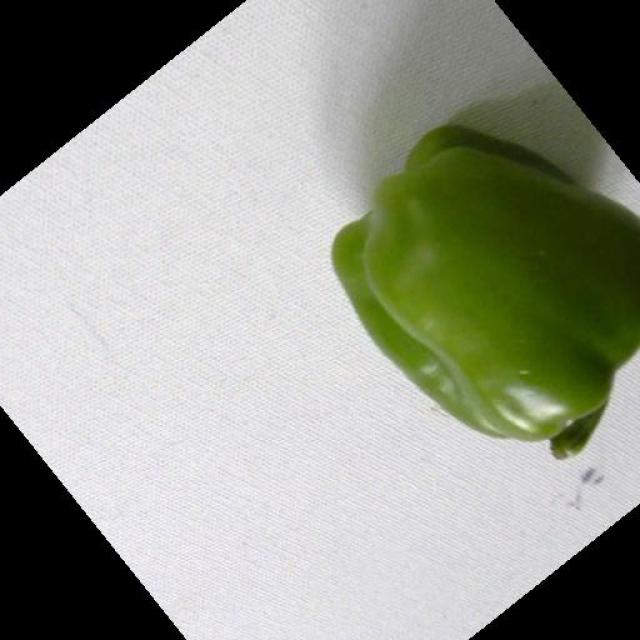Fresh_Capsicum: (334, 150, 640, 456)
